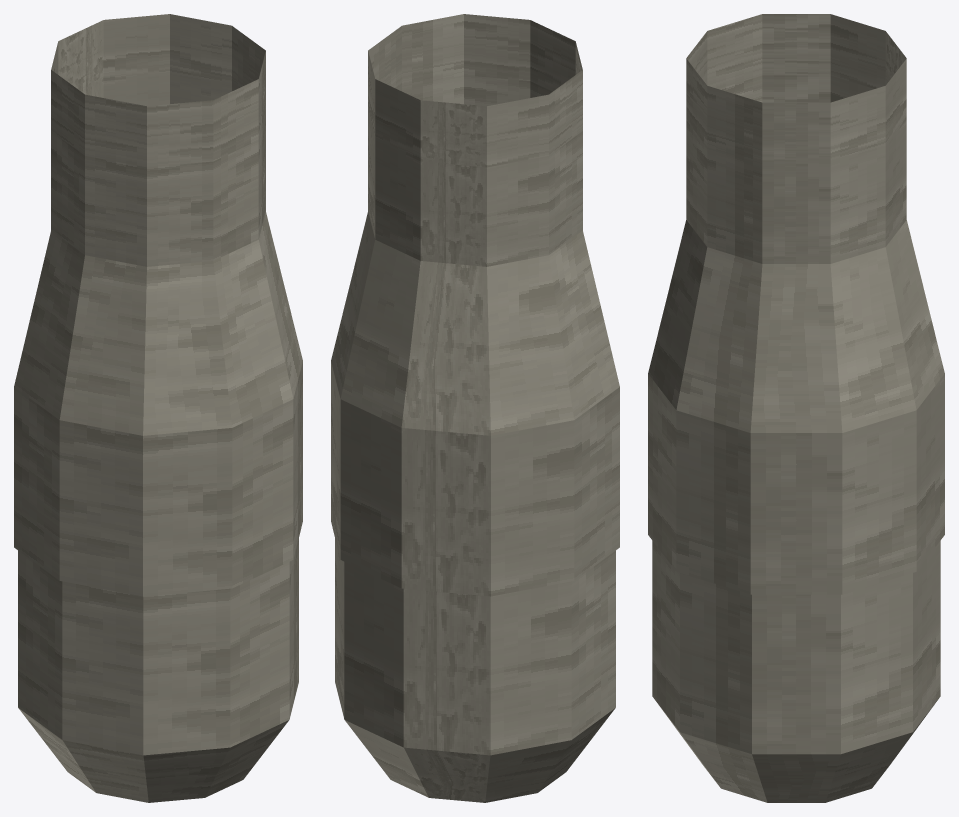
File: lamp_glass_static.glb
3 renders of one model, left to right at view 1: azimuth 30°, elevation 25°; view 2: azimuth 150°, elevation 25°; view 3: azimuth 270°, elevation 25°, orthographic.
Visible parts, largest first — view 1: lamp_glass_static; view 2: lamp_glass_static; view 3: lamp_glass_static.
Boxes of the visible parts, x1,y1,x2,y2 form: lamp_glass_static: (14, 14, 302, 802); lamp_glass_static: (331, 14, 619, 802); lamp_glass_static: (648, 14, 944, 802).
Bounding box in the file's own units: 0.0666 × 0.184 × 0.07.
Materials: 2 (2 with a texture image).
